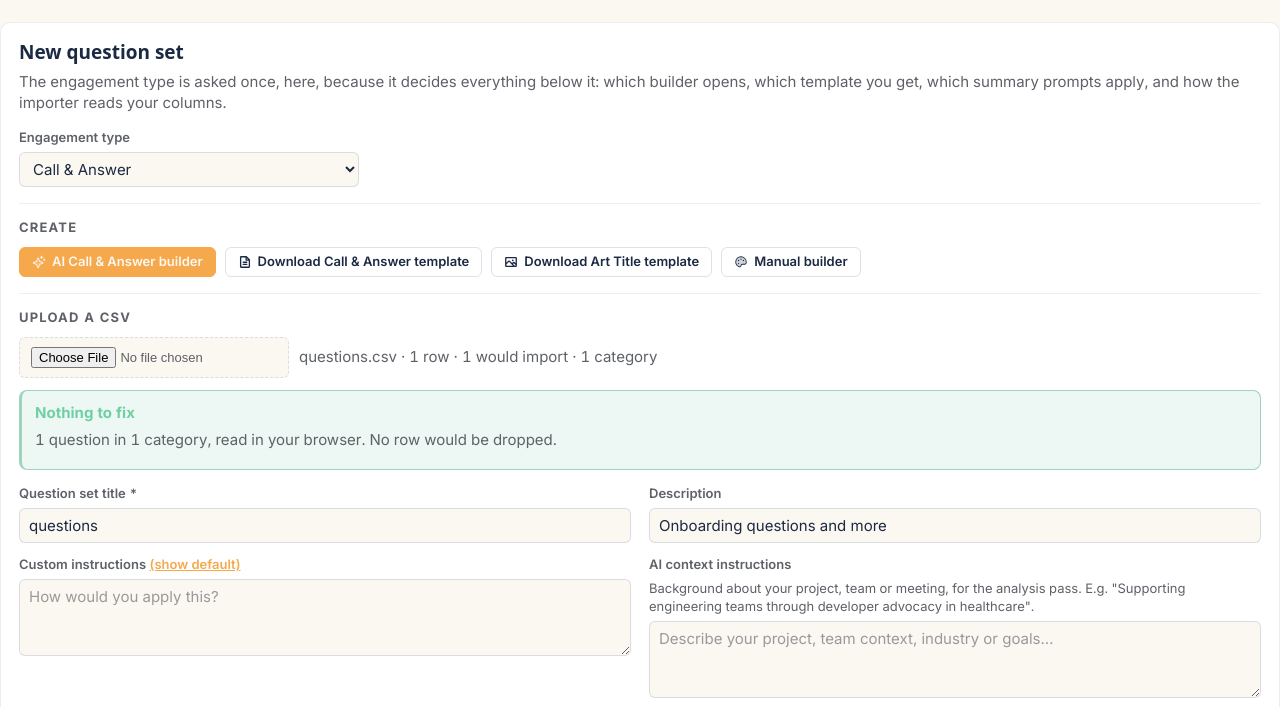
Test: the file is read before it is sent › changing the type after choosing a file drops the verdict rather than keeping a stale one
Earlier steps of the test are not shown.
Expected: the element that starts with "Nothing to fix" is shown, [19,390,1261,470]
Expected: the heading "Nothing to fix" is shown, [35,403,135,422]
Step 1. Select "Poll" in the dropdown labelled "Engagement type" → (189, 169), box [19,152,359,187]
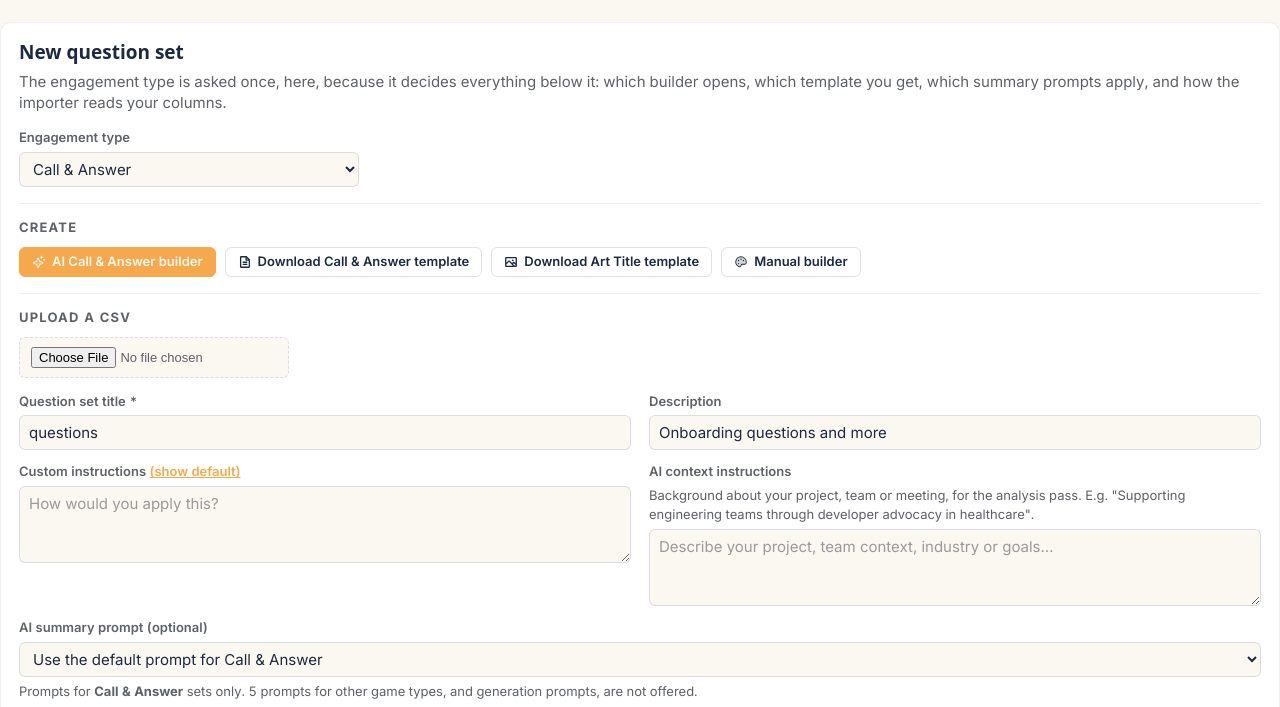
Expected: the heading "Nothing to fix" is gone
